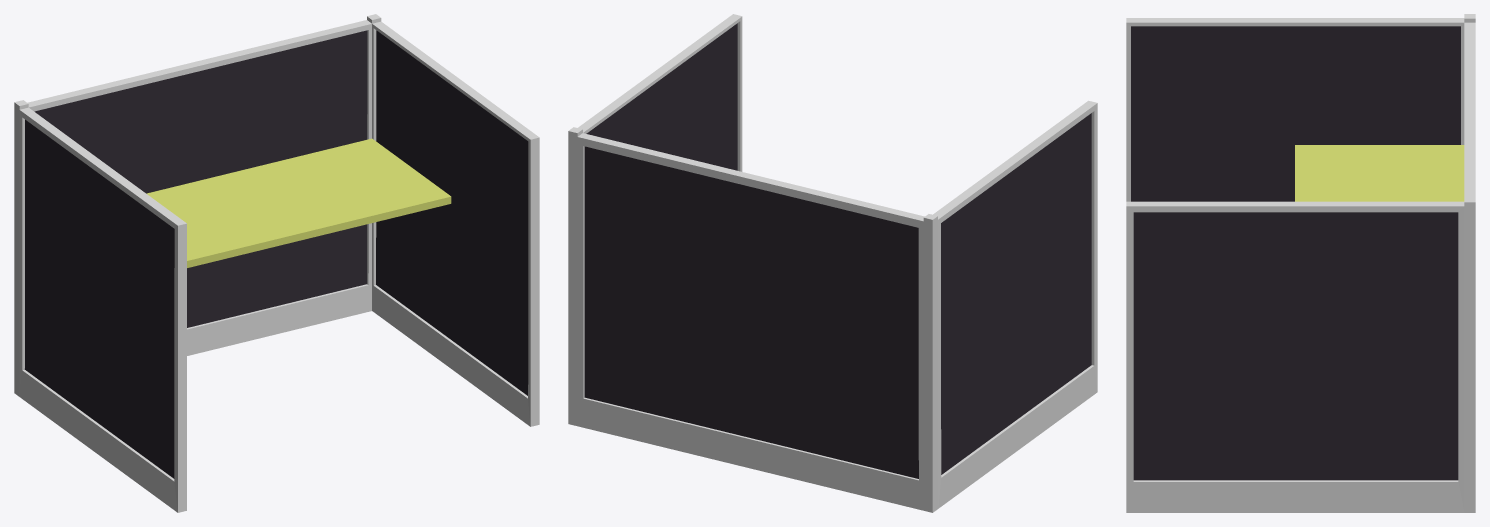
Rendered from Cubicle.fbx.
3 views of the same model, side by side, from view 1: azimuth 30°, elevation 25°; view 2: azimuth 150°, elevation 25°; view 3: azimuth 270°, elevation 25° (orthographic). The views are drawn at different scales.
Visible parts, largest first — view 1: Cubicle; view 2: Cubicle; view 3: Cubicle.
Boxes of the visible parts, left/top/right/bottom form: Cubicle: left=14, top=14, right=539, bottom=512; Cubicle: left=568, top=14, right=1097, bottom=512; Cubicle: left=1126, top=14, right=1475, bottom=512.
Size of the model in its own units: 158 by 121 by 124.
